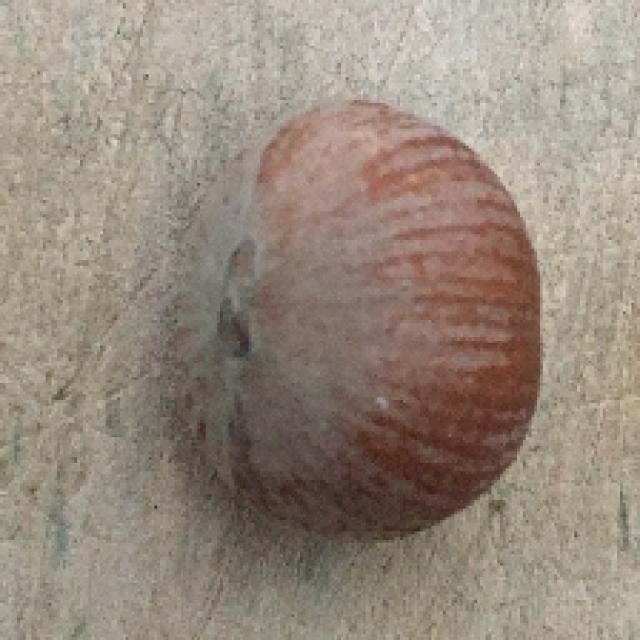QualityHazelnut: (163, 93, 548, 544)
